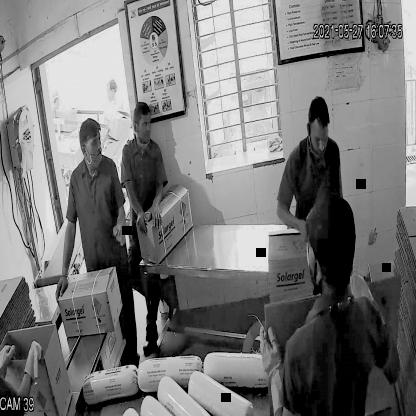no_goggles: (76, 131, 108, 156), (306, 124, 331, 150)
